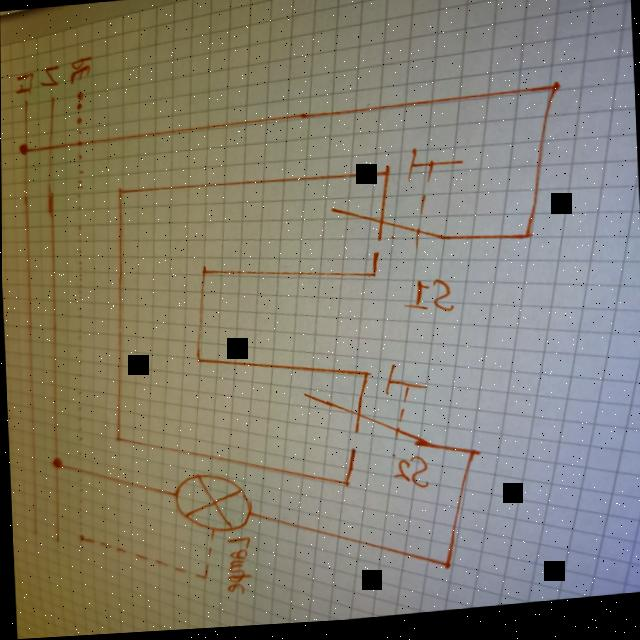crossover: (73, 137, 85, 151), (71, 466, 85, 476), (41, 144, 53, 153)
junction: (377, 167, 392, 183), (462, 450, 478, 464), (545, 86, 559, 99), (48, 457, 62, 469), (15, 143, 27, 156), (518, 236, 532, 247), (438, 564, 450, 575), (365, 274, 377, 283), (357, 373, 369, 382), (338, 482, 348, 492), (73, 533, 83, 543), (197, 574, 207, 584), (114, 187, 124, 196), (191, 357, 201, 366), (197, 268, 207, 277), (110, 436, 120, 444)
switch: (323, 147, 466, 263), (297, 365, 429, 465)
terminal: (72, 90, 84, 100), (44, 94, 56, 104), (18, 97, 30, 106), (50, 535, 60, 545), (28, 529, 38, 538)
text: (399, 281, 452, 321), (220, 537, 251, 598), (388, 456, 429, 497), (66, 54, 94, 84), (34, 62, 65, 88), (11, 71, 35, 96)
